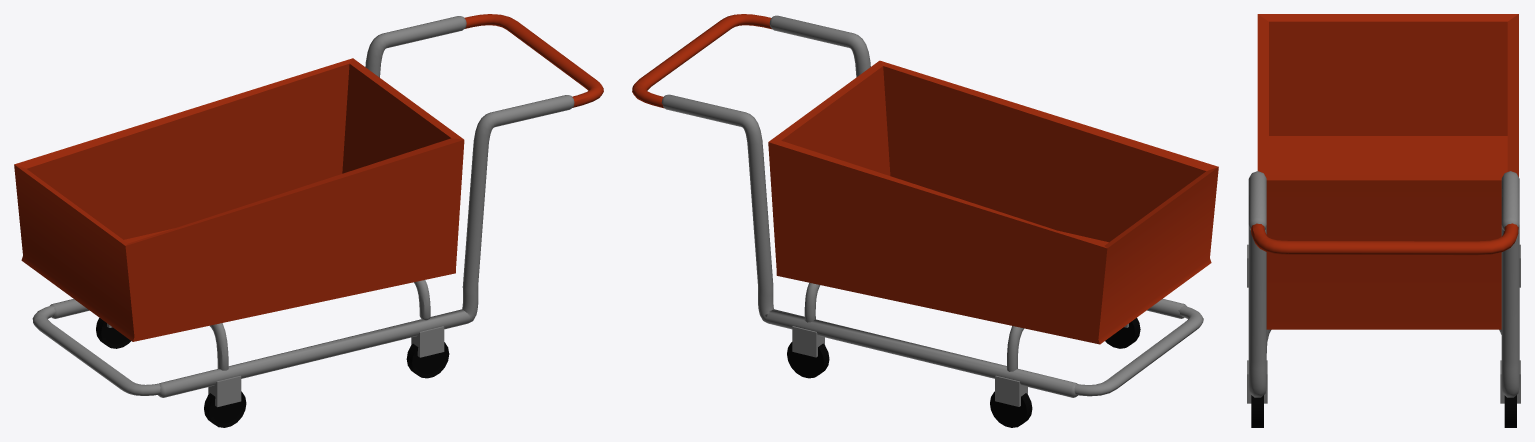
File: CarritoEmma.fbx
3 views of the same model, side by side, from view 1: azimuth 30°, elevation 25°; view 2: azimuth 150°, elevation 25°; view 3: azimuth 270°, elevation 25° (orthographic). The views are drawn at different scales.
Parts seen in each view (by area): view 1: Box001, Line001, Line006, Line003, Line005, Cylinder001, Cylinder002, Box002, Box003, Cylinder004, Line004; view 2: Box001, Line003, Line006, Line001, Line005, Cylinder003, Cylinder004, Box004, Box005, Cylinder002; view 3: Box001, Line006, Line001, Line003, Cylinder001, Cylinder003.
Part boxes in pixels (left/top/right/bottom): Box001: left=14, top=58, right=464, bottom=341; Line001: left=158, top=95, right=574, bottom=397; Line006: left=464, top=14, right=603, bottom=107; Line003: left=50, top=16, right=466, bottom=318; Line005: left=32, top=305, right=160, bottom=395; Cylinder001: left=406, top=342, right=449, bottom=378; Cylinder002: left=204, top=391, right=246, bottom=427; Box002: left=411, top=326, right=444, bottom=357; Box003: left=208, top=375, right=241, bottom=407; Cylinder004: left=96, top=318, right=130, bottom=348; Line004: left=209, top=323, right=228, bottom=370; Box001: left=768, top=60, right=1218, bottom=344; Line003: left=661, top=94, right=1077, bottom=397; Line006: left=632, top=14, right=771, bottom=108; Line001: left=769, top=15, right=1186, bottom=318; Line005: left=1074, top=306, right=1203, bottom=396; Cylinder003: left=787, top=342, right=829, bottom=378; Cylinder004: left=990, top=391, right=1032, bottom=427; Box004: left=792, top=326, right=824, bottom=357; Box005: left=995, top=375, right=1027, bottom=406; Cylinder002: left=1105, top=318, right=1140, bottom=348; Box001: left=1257, top=14, right=1518, bottom=329; Line006: left=1251, top=223, right=1518, bottom=255; Line001: left=1248, top=171, right=1266, bottom=397; Line003: left=1501, top=171, right=1519, bottom=397; Cylinder001: left=1251, top=395, right=1263, bottom=427; Cylinder003: left=1504, top=395, right=1516, bottom=427.
Bounding box in the file's own units: 0.0641 × 0.0266 × 0.0311.
